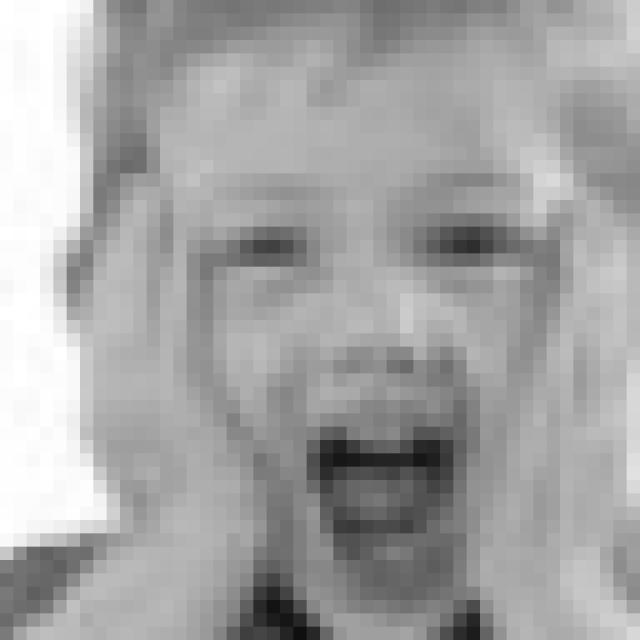fear: (199, 165, 576, 619)
